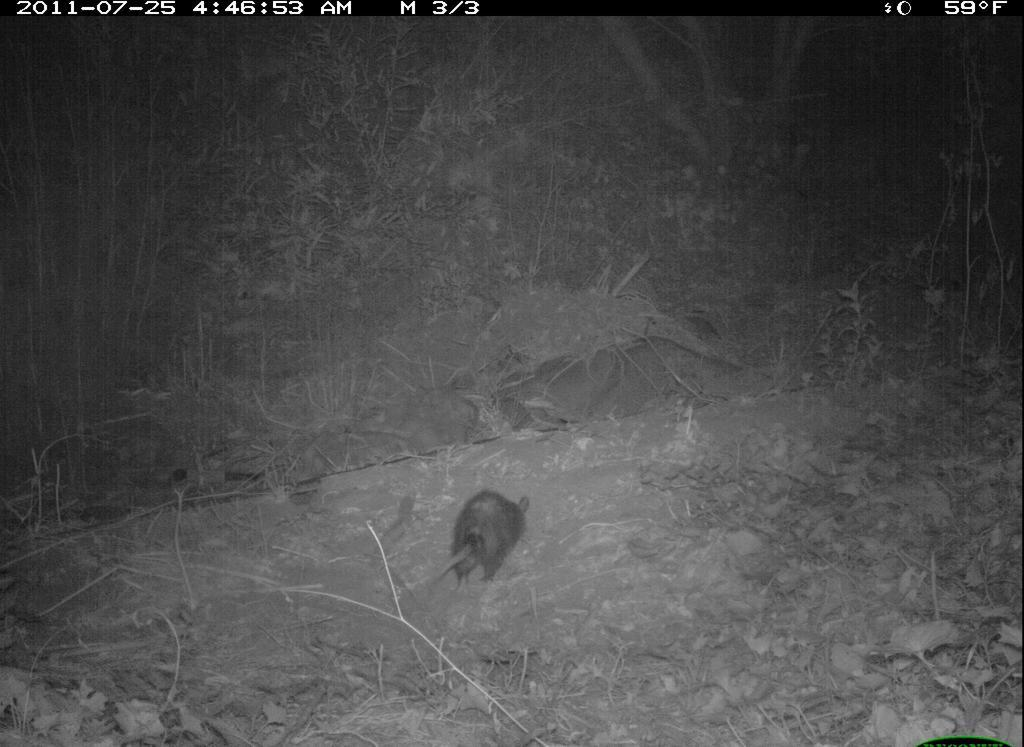opossum: (424, 475, 555, 621)
